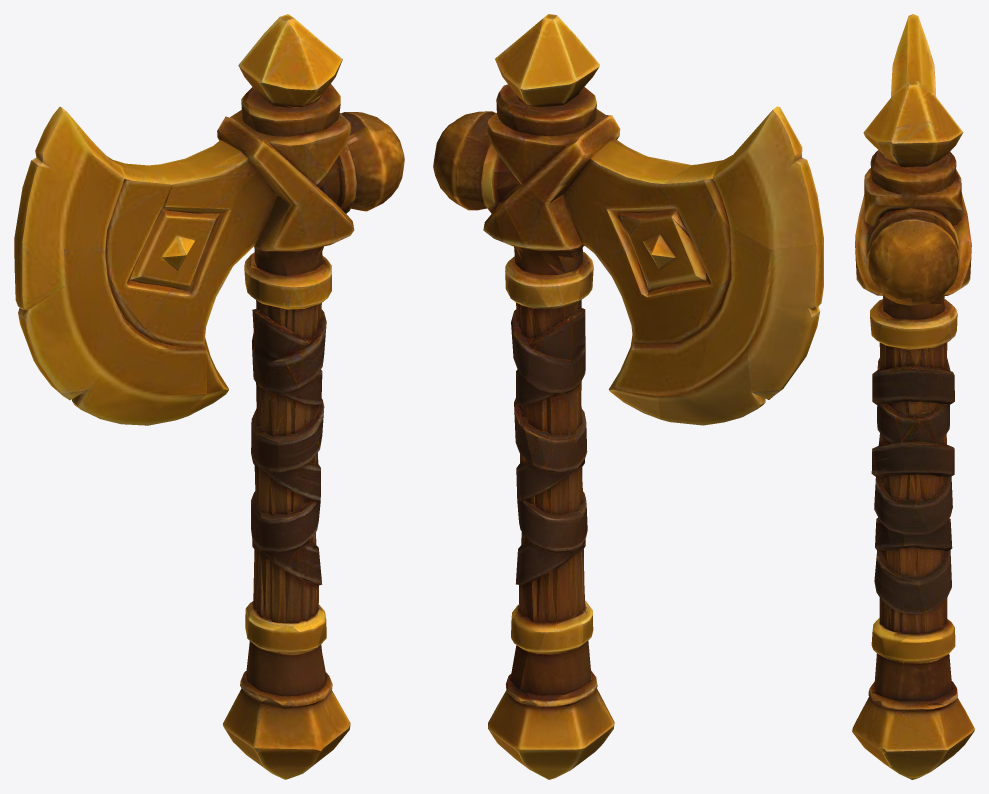
The model's file is axe_v2.glb.
The picture shows the model from 3 angles, left to right: view 1: azimuth 30°, elevation 25°; view 2: azimuth 150°, elevation 25°; view 3: azimuth 270°, elevation 25°; orthographic projection. The views are drawn at different scales.
Bounding box in the file's own units: 0.9939 × 1.9 × 0.3036.
Materials: 1 (1 with a texture image).
